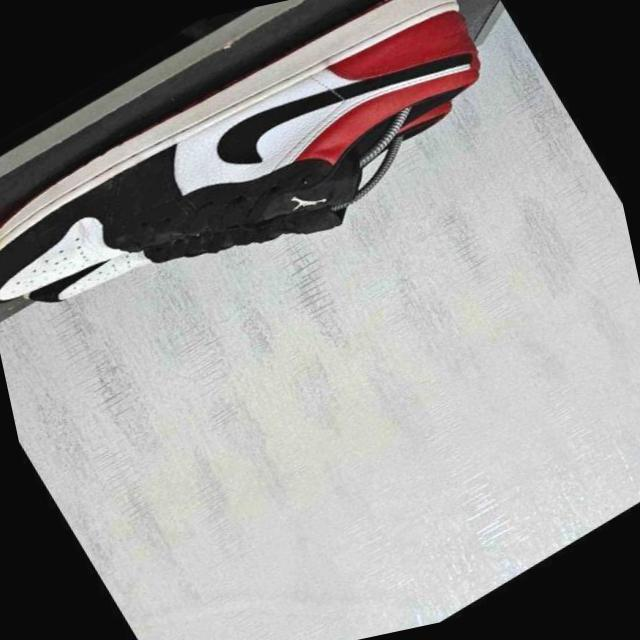nike_fake_jordan: (0, 0, 563, 398)
